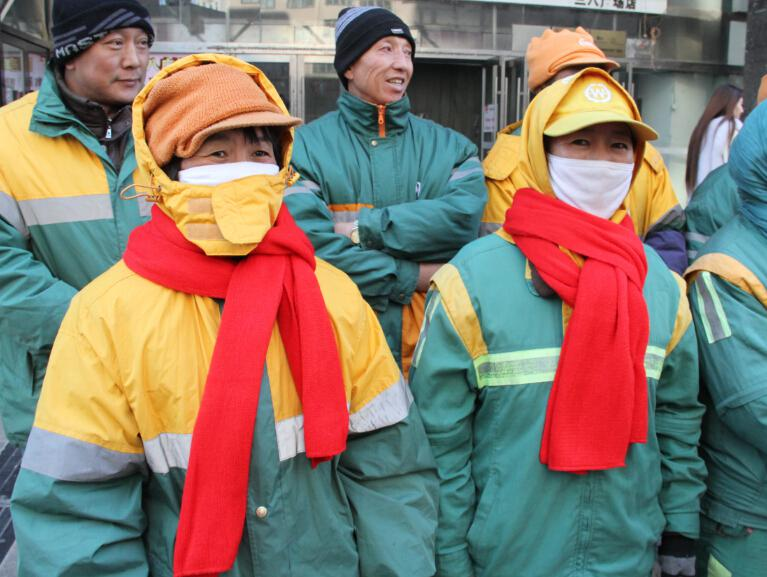NONE: (86, 24, 156, 98), (362, 40, 418, 102)
OK: (179, 121, 290, 239), (552, 124, 633, 218)
